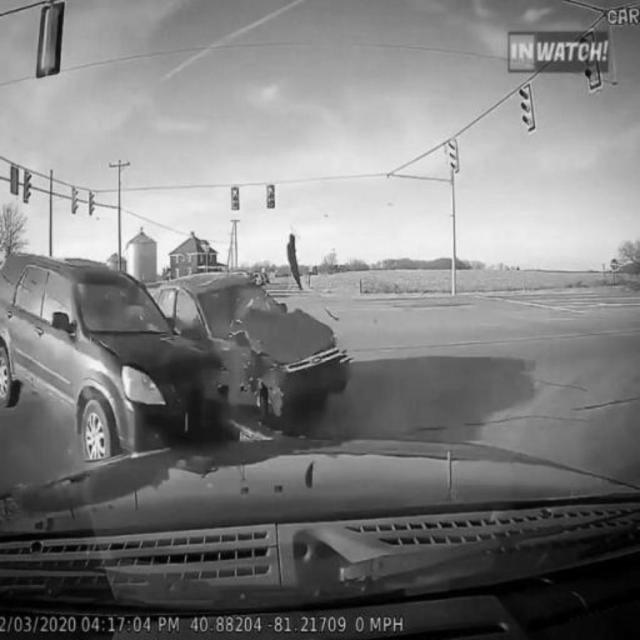accident: (7, 255, 354, 449)
